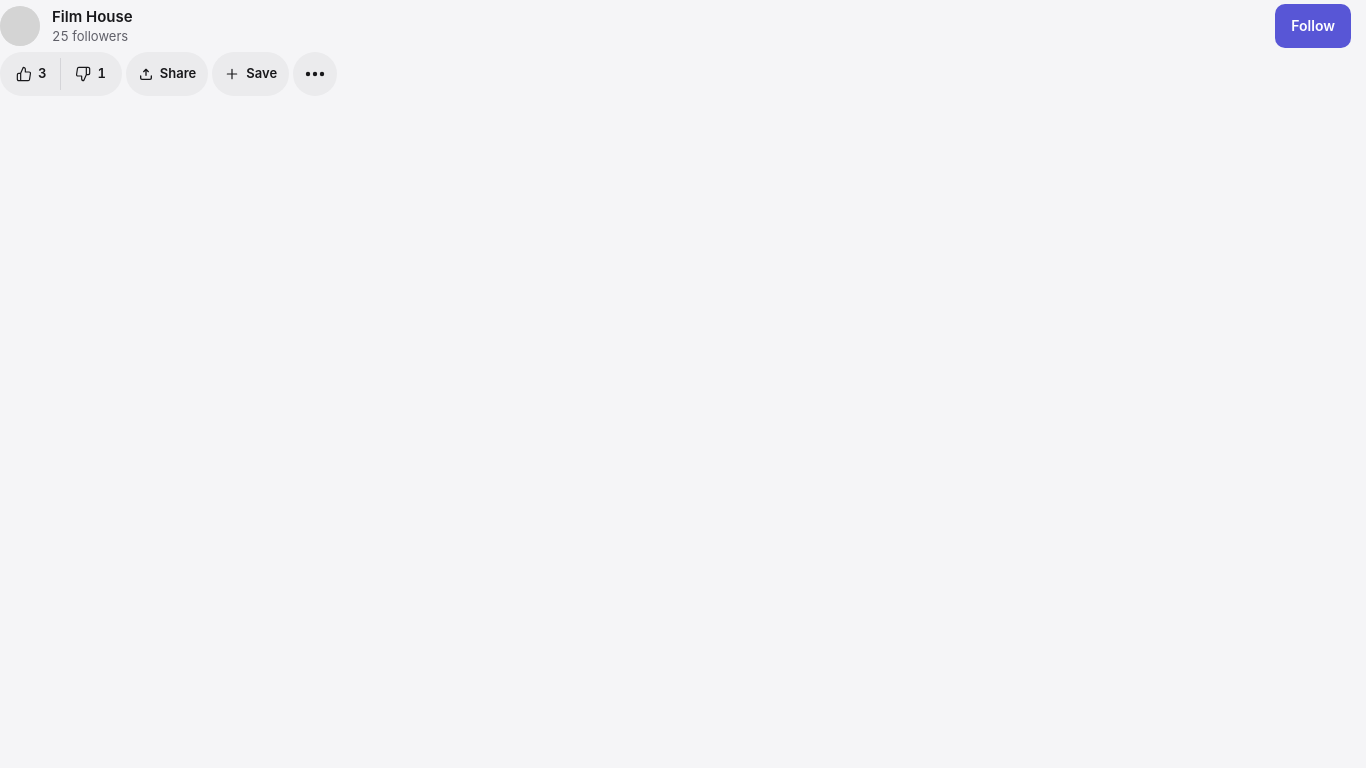
Scenario: Like opens a contextual prompt without a protected mutation
Click the button named "Like".
click(30, 74)  # box [0,52,60,96]
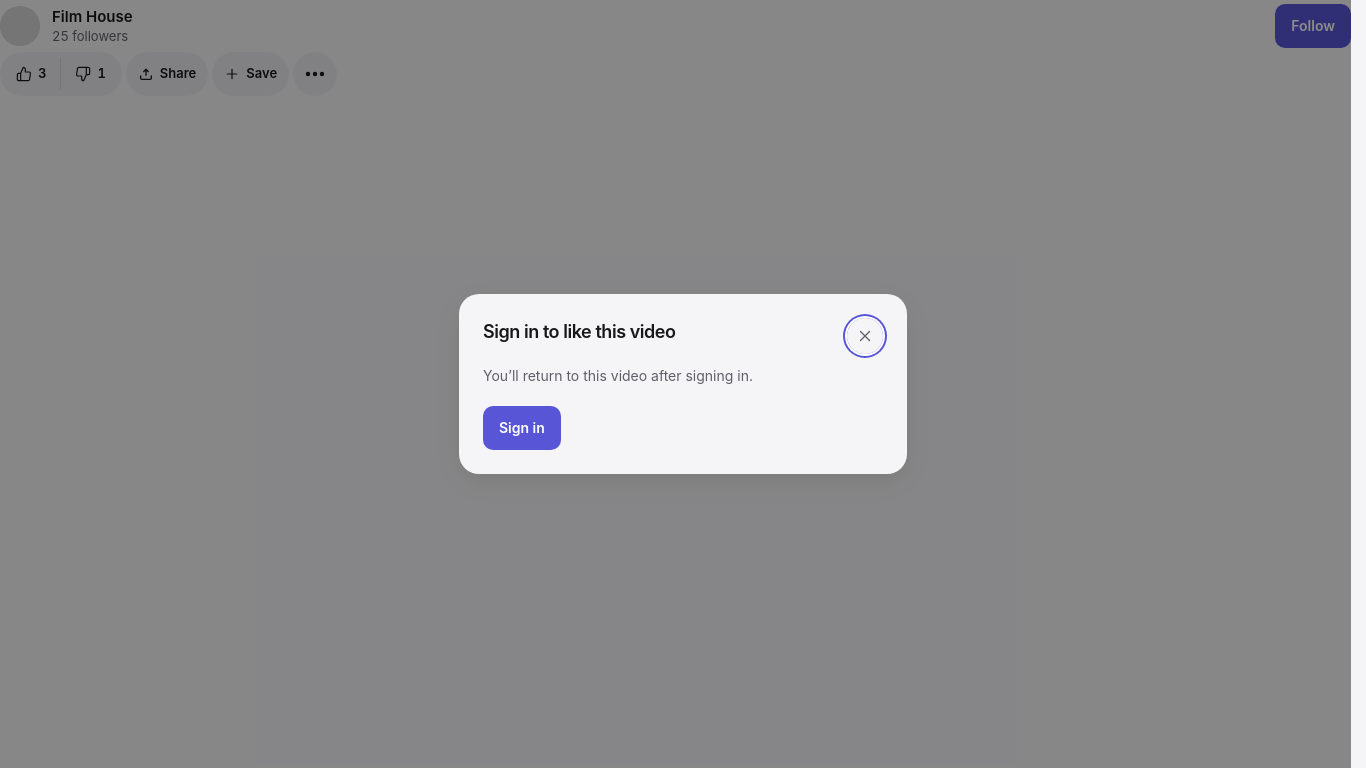
Press Escape in the dialog, box [459,294,907,474]
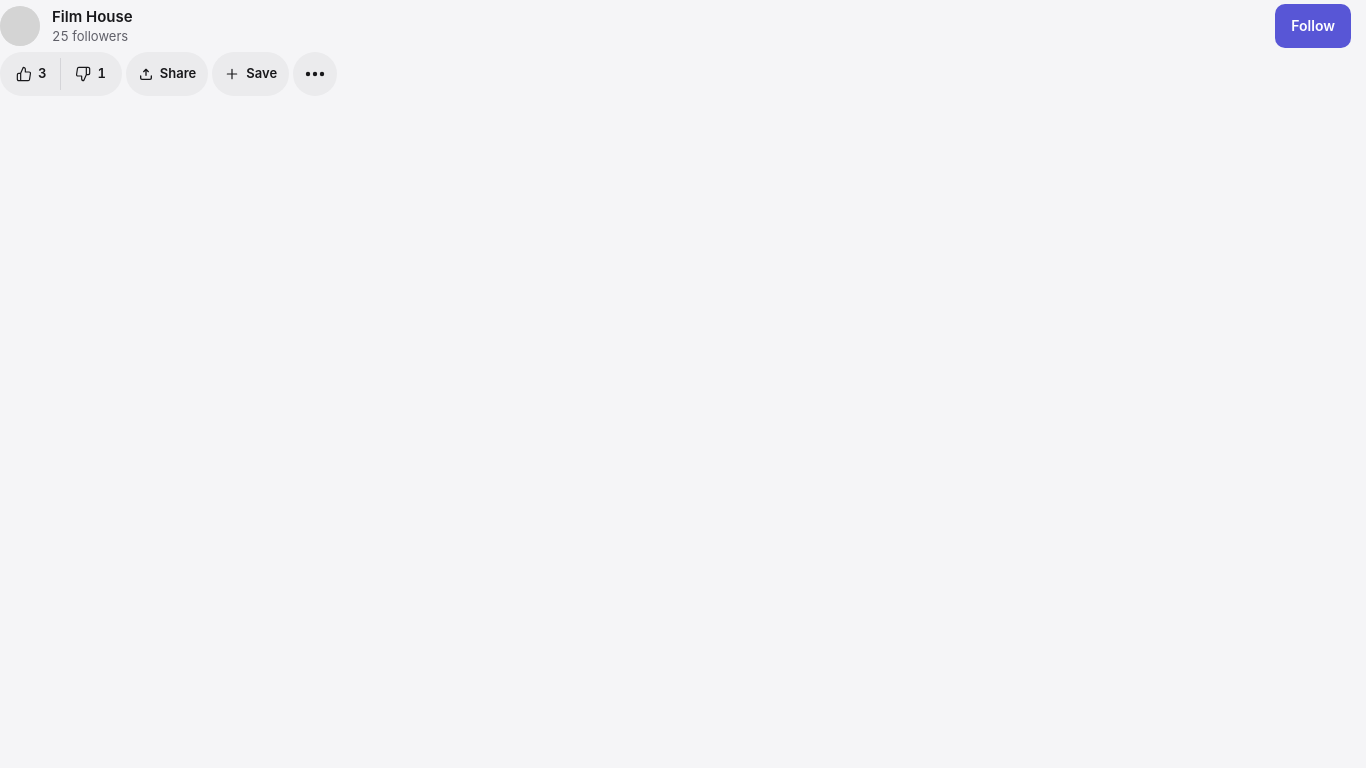
Check: the dialog is gone
